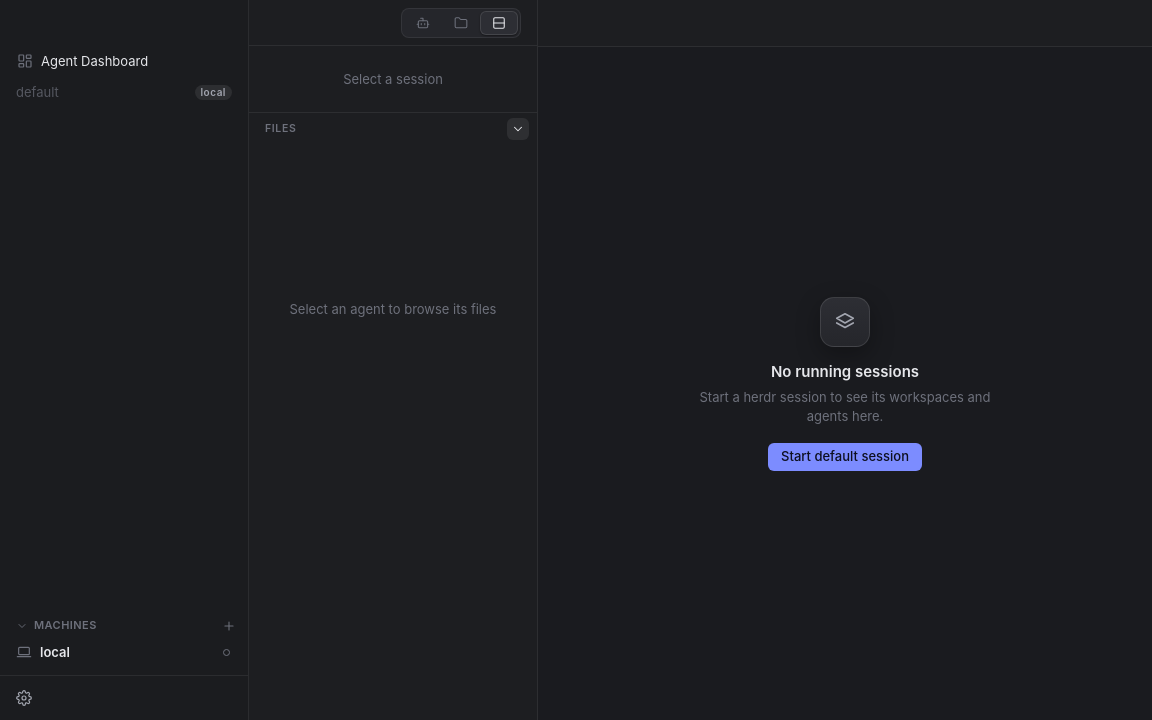
Scenario: App shell › shows a toast when starting the default session fails
Click the button "Start default session": click(845, 456) [768,442,922,470]
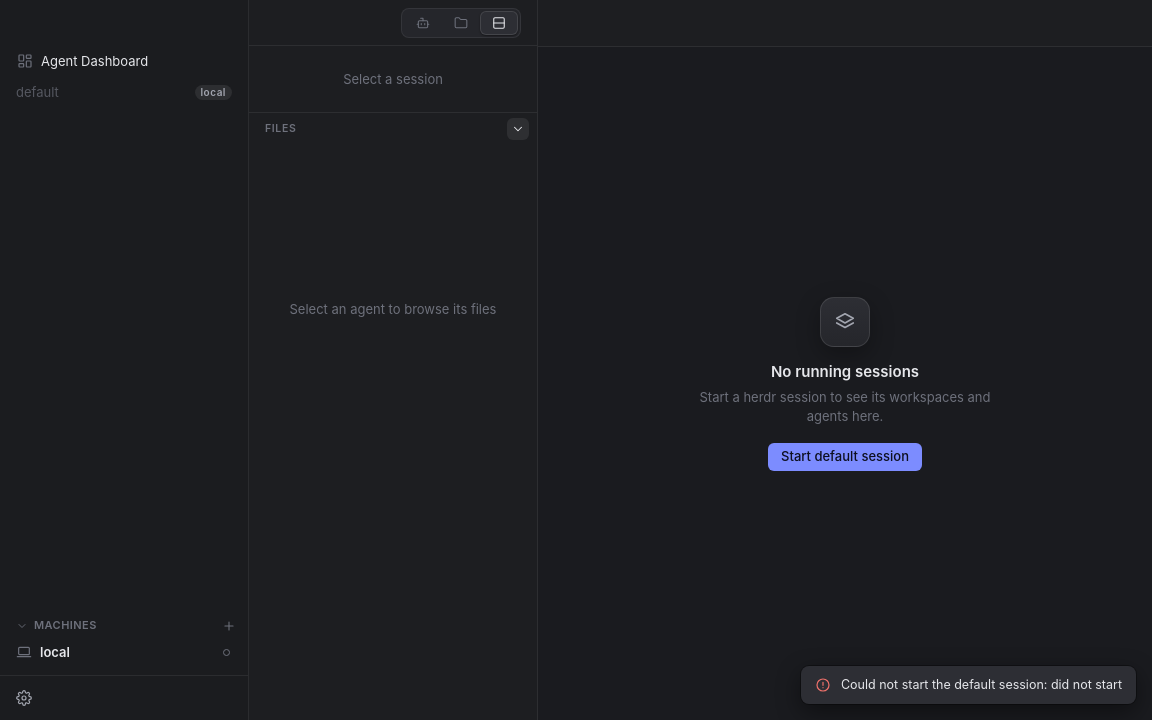
Expected: the text "Could not start the default session: did not start" is shown, [841,676,1122,694]
